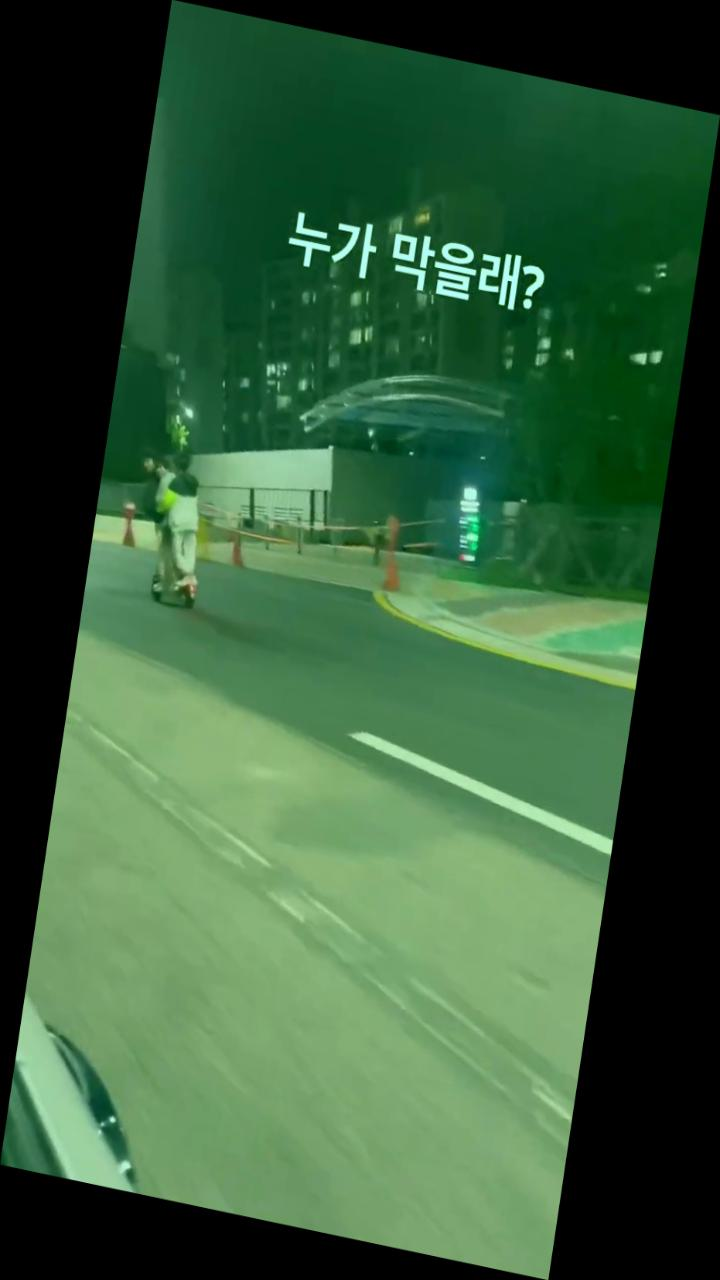multiple: (115, 440, 221, 612)
